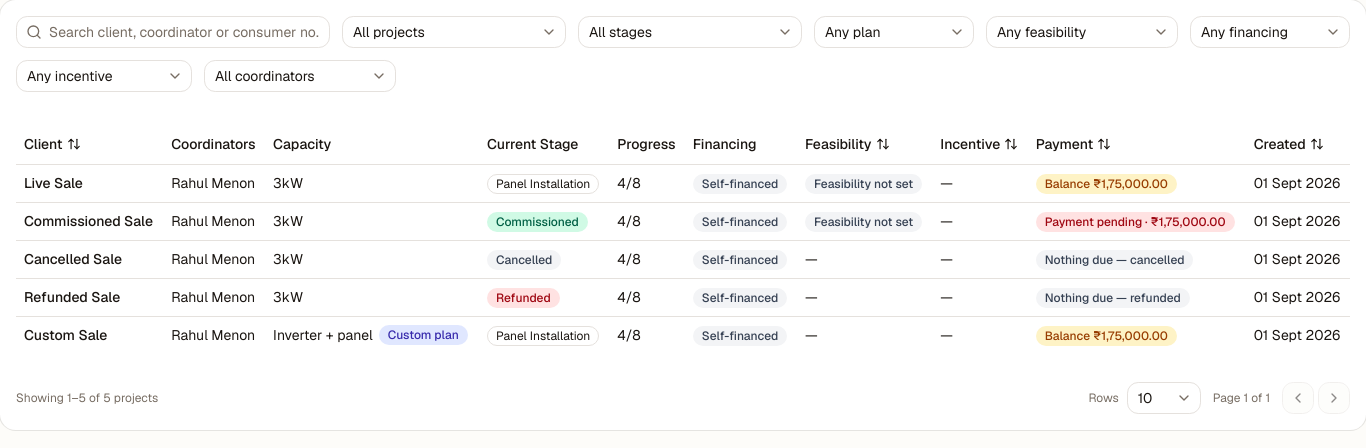
Scenario: ProjectsTable — filters › offers both plans
Click the dropdown labelled "Any plan". click: (894,32)
box: [814,16,974,48]
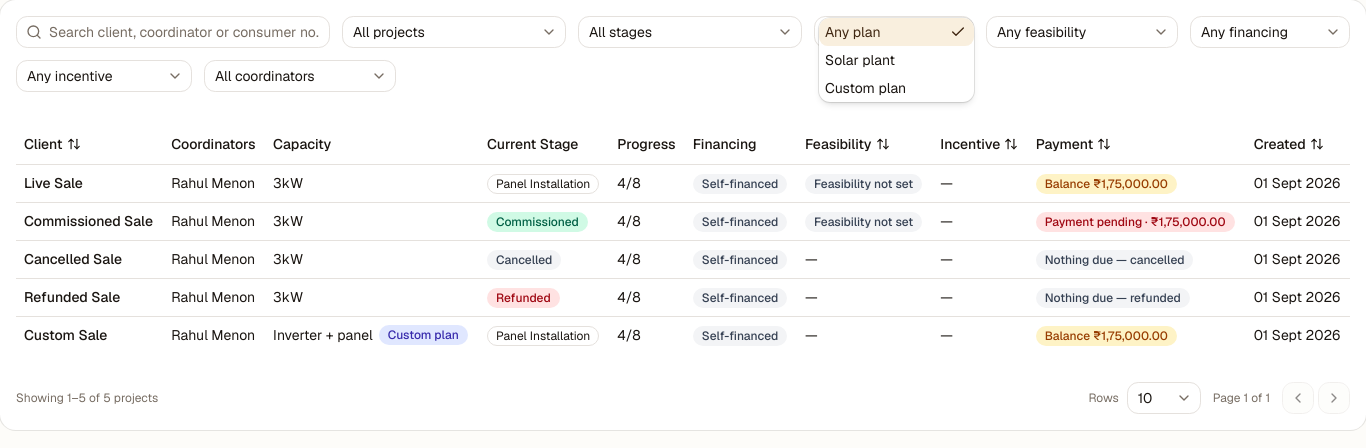
Now the options read "Any plan", "Solar plant", "Custom plan", in this order, box [819,18,974,46]; [825,51,895,69]; [825,79,906,97]
